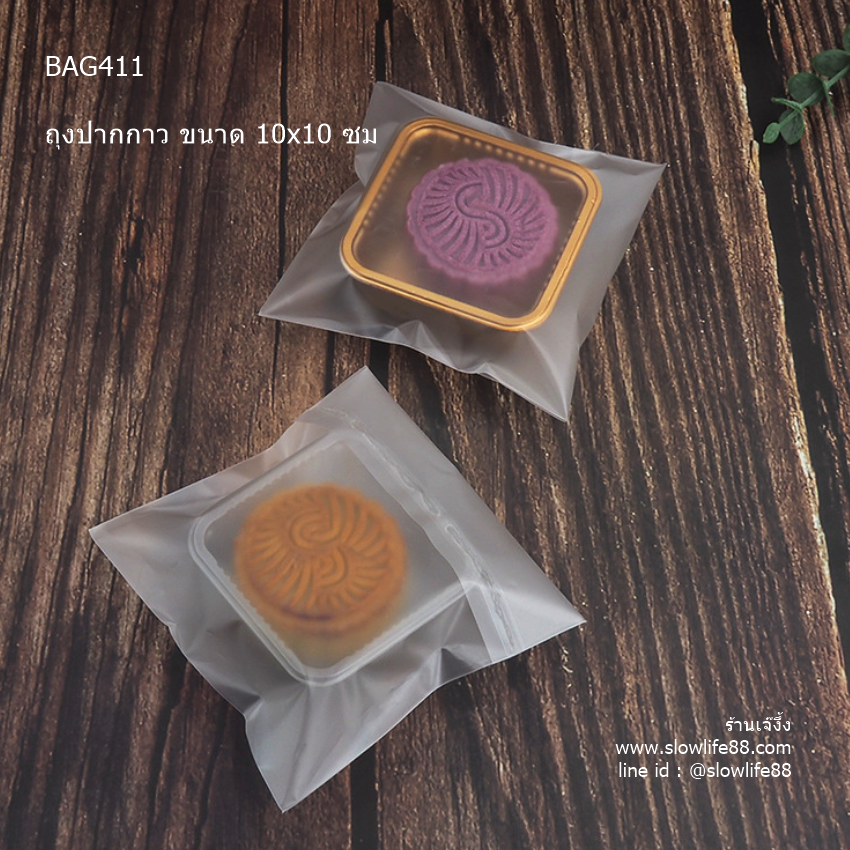Snack: (80, 361, 590, 819)
